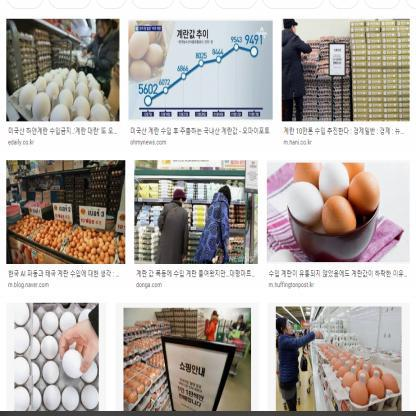egg: (310, 192, 364, 248), (276, 180, 336, 228), (342, 164, 381, 216), (320, 158, 354, 205), (286, 158, 324, 196), (338, 146, 374, 178), (342, 379, 372, 413), (366, 375, 384, 399)
